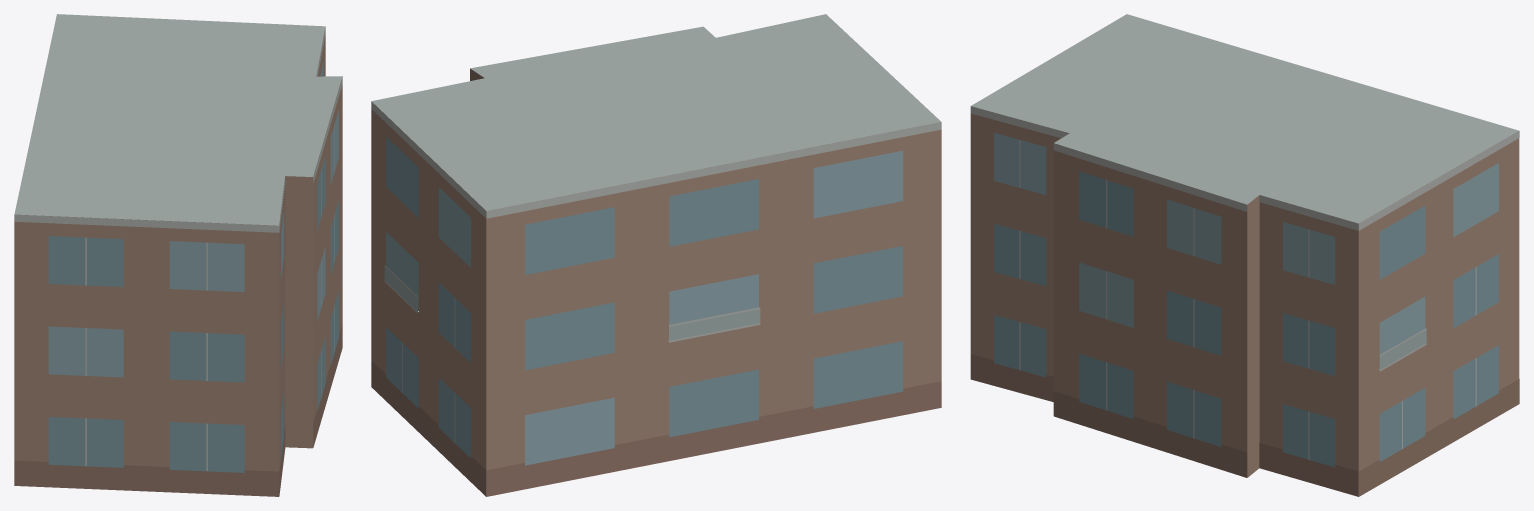
The model's file is survey-upis-32708080.glb.
3 renders of one model, left to right at view 1: azimuth 30°, elevation 25°; view 2: azimuth 150°, elevation 25°; view 3: azimuth 270°, elevation 25°, orthographic. The views are drawn at different scales.
Visible parts, largest first — view 1: survey-upis-32708080.tmp; view 2: survey-upis-32708080.tmp; view 3: survey-upis-32708080.tmp.
Boxes of the visible parts, bbox=[...] form: survey-upis-32708080.tmp: bbox=[14, 14, 342, 496]; survey-upis-32708080.tmp: bbox=[371, 14, 941, 496]; survey-upis-32708080.tmp: bbox=[970, 14, 1519, 496].
Size of the model in its own units: 15.06 by 9.15 by 16.66.
